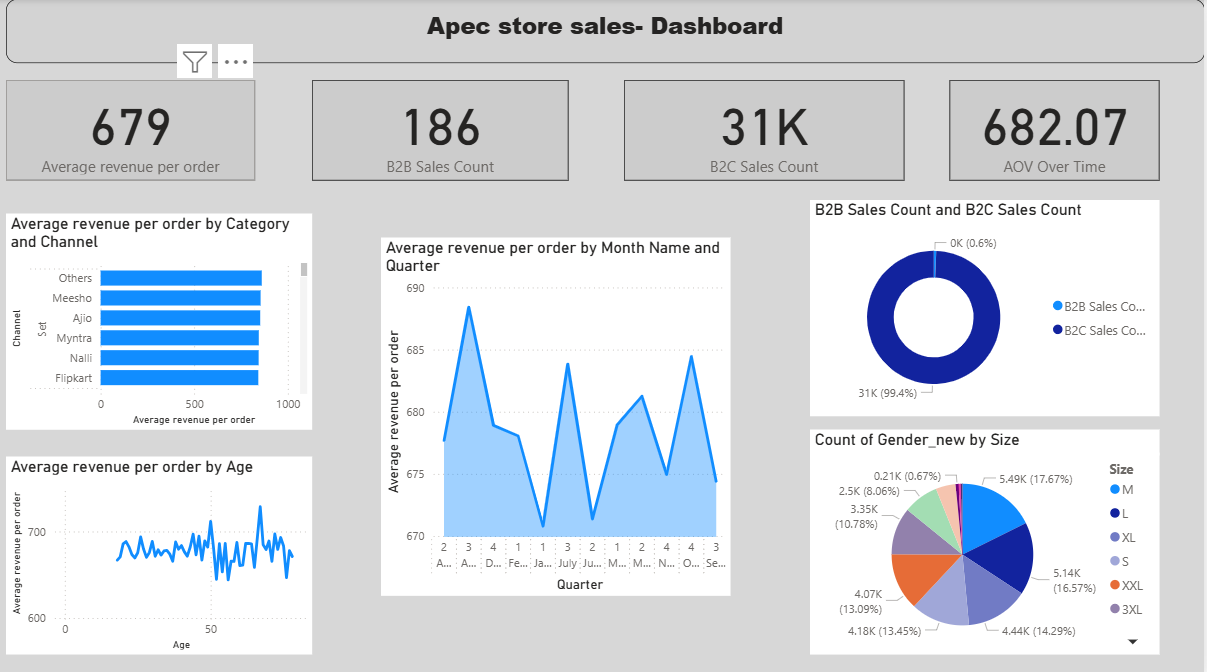

Layout of this report page (visuals, bound fields, positions):
{"tool":"powerbi","page":{"name":"Revenue Analysis","canvas":[1280,720],"ordinal":1},"visuals":[{"type":"textbox","box":[9.7,0,1271.1,68],"z":0},{"type":"lineChart","fields":{"Category":["Apec Stores.Age"],"Y":["metrics.Average revenue per order"]},"box":[9.5,485.1,324.5,210],"z":1000},{"type":"clusteredBarChart","fields":{"Category":["Apec Stores.Category","Apec Stores.Channel "],"Y":["metrics.Average revenue per order"]},"box":[9.5,227.5,324.5,229.1],"z":2000},{"type":"areaChart","fields":{"Y":["metrics.Average revenue per order"],"Category":["Apec Stores.Month Name","Apec Stores.Quarter"]},"box":[407.2,252.9,370.6,380.2],"z":3000},{"type":"card","fields":{"Values":["metrics.Average revenue per order"]},"box":[9.5,85.9,264,106.6],"z":4000},{"type":"card","fields":{"Values":["metrics.B2B Sales Count"]},"box":[334,85.9,272,106.6],"z":5000},{"type":"card","fields":{"Values":["metrics.B2C Sales Count"]},"box":[664.9,85.9,297.4,106.6],"z":6000},{"type":"donutChart","fields":{"Y":["metrics.B2B Sales Count","metrics.B2C Sales Count"]},"box":[862.1,213.1,370.6,229.1],"z":7000},{"type":"card","fields":{"Values":["metrics.AOV Over Time"]},"box":[1010,85.9,222.7,106.6],"z":8000},{"type":"pieChart","fields":{"Y":["CountNonNull(Apec Stores.Gender_new)"],"Category":["Apec Stores.Size"]},"box":[862.1,456.5,370.6,238.6],"z":9000}]}

Visuals, with their boxes in screenshot pixels (x1, y1, x2, y2), scaled from the page's 1280x720 canvas onto the 1207x672 screenshot:
textbox: (9,0,1206,63)
lineChart - Apec Stores.Age x metrics.Average revenue per order: (9,453,315,649)
clusteredBarChart - Apec Stores.Category x Apec Stores.Channel : (9,212,315,426)
areaChart - metrics.Average revenue per order x Apec Stores.Month Name: (384,236,733,591)
card - metrics.Average revenue per order: (9,80,258,180)
card - metrics.B2B Sales Count: (315,80,571,180)
card - metrics.B2C Sales Count: (627,80,907,180)
donutChart - metrics.B2B Sales Count x metrics.B2C Sales Count: (813,199,1162,413)
card - metrics.AOV Over Time: (952,80,1162,180)
pieChart - CountNonNull(Apec Stores.Gender_new) x Apec Stores.Size: (813,426,1162,649)
